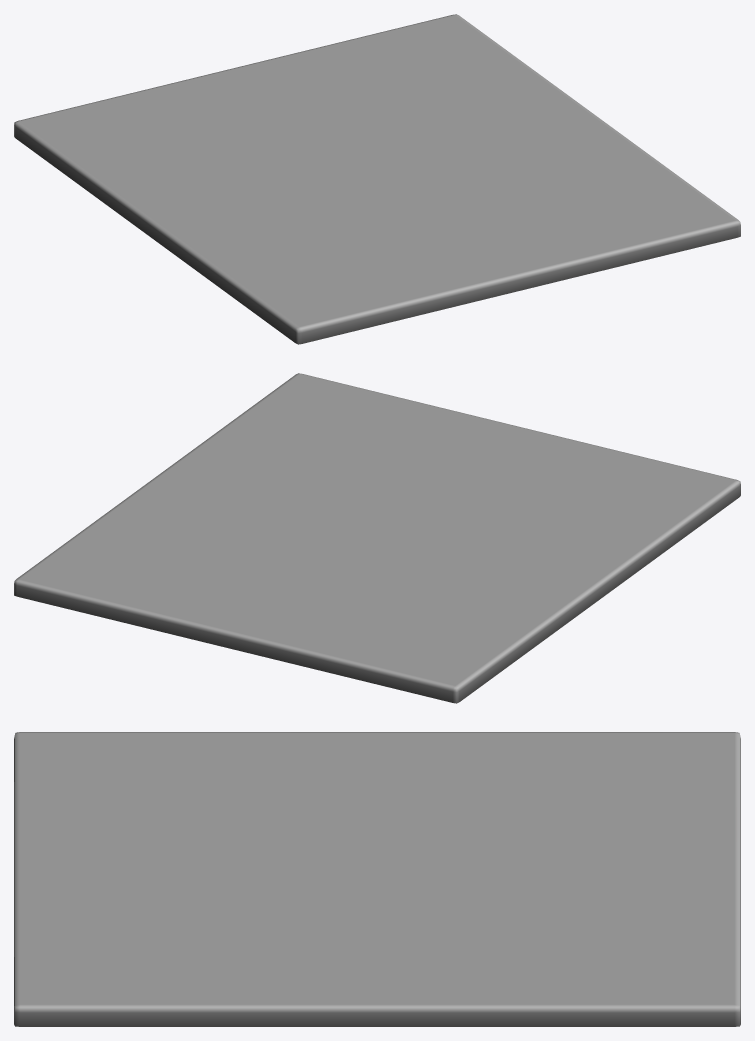
The model's file is Spawn.fbx.
3 views of the same model, one above another, from view 1: azimuth 30°, elevation 25°; view 2: azimuth 150°, elevation 25°; view 3: azimuth 270°, elevation 25° (orthographic). The views are drawn at different scales.
Visible parts, largest first — view 1: Spawn; view 2: Spawn; view 3: Spawn.
Boxes of the visible parts, box(x1,y1,x2,y2) form: Spawn: box(14, 14, 740, 344); Spawn: box(14, 373, 740, 703); Spawn: box(14, 732, 740, 1026).
Bounding box in the file's own units: 900 × 30 × 1000.
